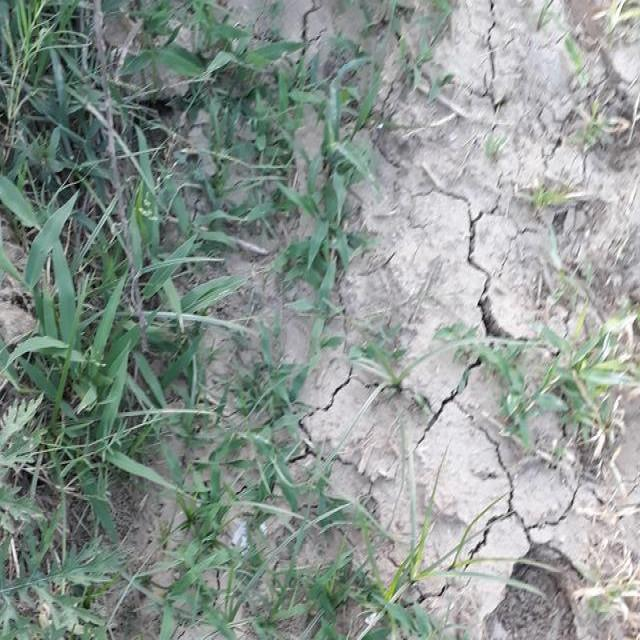weed: (0, 10, 371, 640)
